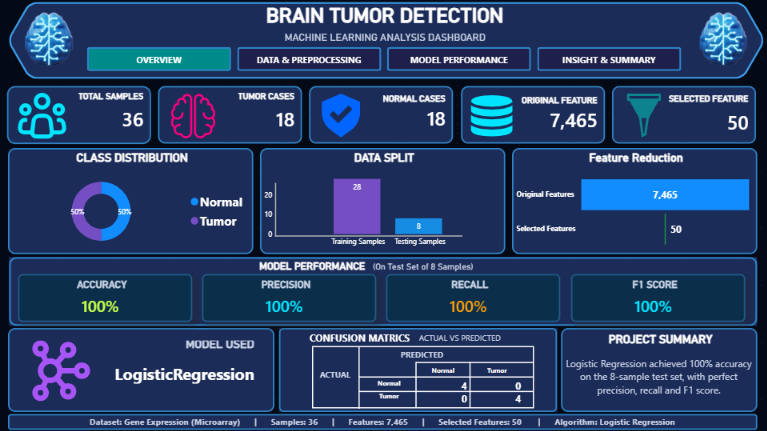

This screenshot's page, from the dashboard's own definition file:
{"tool":"powerbi","page":{"name":"OVERVIEW ","canvas":[1280,720],"ordinal":0},"visuals":[{"type":"textbox","title":"HEADING","box":[11,7.3,1259.5,38],"z":0,"group":"g6"},{"type":"cardVisual","title":"TOTAL SAMPLES","fields":{"Data":["CountNonNull(cleaned_dataset.Sample ID)"]},"box":[12.4,143.6,240,96.9],"z":0,"group":"g5"},{"type":"donutChart","title":"CLASS DISTRIBUTION","fields":{"Y":["CountNonNull(cleaned_dataset.Diagnosis)"],"Category":["cleaned_dataset.Diagnosis"]},"box":[12.5,247,409,176.8],"z":0,"group":"g4"},{"type":"shape","title":"M.P SHAPE","box":[15.2,429,1247.1,115],"z":0,"group":"g3"},{"type":"textbox","title":"PROJECT SUMMARY","box":[936.3,547,327,140],"z":0,"group":"g1"},{"type":"pivotTable","title":"MATRICS","fields":{"Columns":["Confusion_Matrix.Predicted"],"Rows":["Confusion_Matrix.Actual"],"Values":["Sum(Confusion_Matrix.Count)"]},"box":[600.1,604.6,289.4,76.5],"z":0,"group":"g2"},{"type":"textbox","title":"FOOTER","box":[13.9,690,1249,26],"z":0},{"type":"textbox","title":"SUBTITLE","box":[11,47.3,1260,30],"z":1000,"group":"g6"},{"type":"cardVisual","title":"TUMOR CASES","fields":{"Data":["CountNonNull(cleaned_dataset.Diagnosis)"]},"box":[263.7,143.6,240,96],"z":1000,"group":"g5"},{"type":"clusteredColumnChart","title":"DATA SPLIT","fields":{"Category":["Data_Split.Sample Type"],"Y":["Sum(Data_Split.Count)"]},"box":[432.4,247,409,176.8],"z":1000,"group":"g4"},{"type":"cardVisual","title":"ACCURACY","fields":{"Data":["Sum(ModelMetrics.Value)"]},"box":[30.7,458,290,80],"z":1000,"group":"g3"},{"type":"group","id":"g1","title":"BODY 4","box":[13.9,547,1249.4,140.1],"z":1000},{"type":"cardVisual","title":"MODEL USED","fields":{"Data":["Min(power_bi_summary.Column2)"]},"box":[13.9,547,443.8,140],"z":1000,"group":"g1"},{"type":"shape","title":"BORDER SHAPE ","box":[520.4,576.8,370,104],"z":1000,"group":"g2"},{"type":"shape","title":"BORDER","box":[14.5,3.8,1259.5,132],"z":2000,"group":"g6"},{"type":"cardVisual","title":"NORMAL CASES","fields":{"Data":["CountNonNull(cleaned_dataset.Diagnosis)"]},"box":[515.6,143.6,240,96],"z":2000,"group":"g5"},{"type":"funnel","title":"Feature Reduction ","fields":{"Category":["Feature_Reduction.Feature Stage"],"Y":["Sum(Feature_Reduction.Feature Reduction Value)"]},"box":[852.2,247,409,176.8],"z":2000,"group":"g4"},{"type":"textbox","title":"MP TITLE","box":[405.8,429,230.8,29.5],"z":2000,"group":"g3"},{"type":"group","id":"g2","title":"CONFUSION MATRICS","box":[466,547.1,462.9,140],"z":2000,"group":"g1"},{"type":"shape","title":"CONFUSION MATRICS","box":[466,547.1,463,140],"z":2000,"group":"g2"},{"type":"image","title":"LEFT BRAIN","box":[20,12.3,122.8,105.5],"z":3000,"group":"g6"},{"type":"cardVisual","title":"ORIGINAL FEATURES","fields":{"Data":["Sum(Feature_Reduction.Feature Reduction Value)"]},"box":[769.3,143.6,240,96],"z":3000,"group":"g5"},{"type":"shape","title":"horizontal line","box":[457.4,305.4,312,176.6],"z":3000,"group":"g4"},{"type":"group","id":"g3","title":"BODY 3","box":[15.2,429,1247.1,115],"z":3000},{"type":"textbox","title":"MP. SUBTITLE","box":[613.5,429,224.4,29.5],"z":3000,"group":"g3"},{"type":"shape","title":"2ND FULL TOP LINE","box":[600.1,619.6,290,65],"z":3000,"group":"g2"},{"type":"image","title":"RIGHT BRAIN","box":[1140,12.3,131,104.5],"z":4000,"group":"g6"},{"type":"cardVisual","title":"SELECTED FEATURES","fields":{"Data":["Sum(Feature_Reduction.Feature Reduction Value)"]},"box":[1020.8,143.6,240,96],"z":4000,"group":"g5"},{"type":"group","id":"g4","title":"BODY 2","box":[12.5,247,1248.7,235],"z":4000},{"type":"shape","title":"vertical line","box":[388.2,304.8,141.8,89.2],"z":4000,"group":"g4"},{"type":"cardVisual","title":"PRECISION","fields":{"Data":["Sum(ModelMetrics.Value)"]},"box":[337.5,458,290,80],"z":4000,"group":"g3"},{"type":"shape","title":"FULL TOP LINE","box":[600.1,593.3,290,70],"z":4000,"group":"g2"},{"type":"group","id":"g5","title":"BODY 1","box":[12.4,143.6,1248.4,96.9],"z":5000},{"type":"cardVisual","title":"RECALL","fields":{"Data":["Sum(ModelMetrics.Value)"]},"box":[644.3,458,290,80],"z":5000,"group":"g3"},{"type":"shape","title":"3RD LEFT LINE","box":[735.1,603.9,100,77],"z":5000,"group":"g2"},{"type":"group","id":"g6","title":"HEADER","box":[11,3.8,1263,132],"z":6000},{"type":"cardVisual","title":"F1 SCORE","fields":{"Data":["Sum(ModelMetrics.Value)"]},"box":[951.2,458,290,80],"z":6000,"group":"g3"},{"type":"shape","title":"2ND LEFT LINE","box":[685.1,603.9,20,77],"z":6000,"group":"g2"},{"type":"pageNavigator","box":[144.3,78.6,992,40],"z":7000,"group":"g6"},{"type":"textbox","title":"SUBTITLE","box":[693.8,547.1,235,31.2],"z":7000,"group":"g2"},{"type":"shape","title":"LEFT LINE","box":[550.1,578.3,100.2,103],"z":8000,"group":"g2"},{"type":"shape","title":"TOP LINE","box":[693.8,572.1,196.2,65],"z":9000,"group":"g2"},{"type":"textbox","title":"ACTUAL","box":[520.1,604.6,80,56.2],"z":10000,"group":"g2"},{"type":"textbox","title":"PREDICTED ","box":[520.1,577.1,370,27.5],"z":11000,"group":"g2"},{"type":"textbox","title":"TITLE","box":[466.3,547.1,268.8,31.2],"z":12000,"group":"g2"}]}

Visuals, with their boxes in screenshot pixels (x1, y1, x2, y2), scaled from the page's 1280x720 canvas onto the 767x431 screenshot:
"HEADING" textbox: bbox=(7, 4, 761, 27)
"TOTAL SAMPLES" cardVisual: bbox=(7, 86, 151, 144)
"CLASS DISTRIBUTION" donutChart: bbox=(7, 148, 253, 254)
"M.P SHAPE" shape: bbox=(9, 257, 756, 326)
"PROJECT SUMMARY" textbox: bbox=(561, 327, 757, 411)
"MATRICS" pivotTable: bbox=(360, 362, 533, 408)
"FOOTER" textbox: bbox=(8, 413, 757, 429)
"SUBTITLE" textbox: bbox=(7, 28, 762, 46)
"TUMOR CASES" cardVisual: bbox=(158, 86, 302, 143)
"DATA SPLIT" clusteredColumnChart: bbox=(259, 148, 504, 254)
"ACCURACY" cardVisual: bbox=(18, 274, 192, 322)
"BODY 4" group: bbox=(8, 327, 757, 411)
"MODEL USED" cardVisual: bbox=(8, 327, 274, 411)
"BORDER SHAPE " shape: bbox=(312, 345, 534, 408)
"BORDER" shape: bbox=(9, 2, 763, 81)
"NORMAL CASES" cardVisual: bbox=(309, 86, 453, 143)
"Feature Reduction " funnel: bbox=(511, 148, 756, 254)
"MP TITLE" textbox: bbox=(243, 257, 381, 274)
"CONFUSION MATRICS" group: bbox=(279, 328, 557, 411)
"CONFUSION MATRICS" shape: bbox=(279, 328, 557, 411)
"LEFT BRAIN" image: bbox=(12, 7, 86, 71)
"ORIGINAL FEATURES" cardVisual: bbox=(461, 86, 605, 143)
"horizontal line" shape: bbox=(274, 183, 461, 289)
"BODY 3" group: bbox=(9, 257, 756, 326)
"MP. SUBTITLE" textbox: bbox=(368, 257, 502, 274)
"2ND FULL TOP LINE" shape: bbox=(360, 371, 533, 410)
"RIGHT BRAIN" image: bbox=(683, 7, 762, 70)
"SELECTED FEATURES" cardVisual: bbox=(612, 86, 755, 143)
"BODY 2" group: bbox=(7, 148, 756, 289)
"vertical line" shape: bbox=(233, 182, 318, 236)
"PRECISION" cardVisual: bbox=(202, 274, 376, 322)
"FULL TOP LINE" shape: bbox=(360, 355, 533, 397)
"BODY 1" group: bbox=(7, 86, 755, 144)
"RECALL" cardVisual: bbox=(386, 274, 560, 322)
"3RD LEFT LINE" shape: bbox=(440, 362, 500, 408)
"HEADER" group: bbox=(7, 2, 763, 81)
"F1 SCORE" cardVisual: bbox=(570, 274, 744, 322)
"2ND LEFT LINE" shape: bbox=(411, 362, 423, 408)
pageNavigator: bbox=(86, 47, 681, 71)
"SUBTITLE" textbox: bbox=(416, 328, 557, 346)
"LEFT LINE" shape: bbox=(330, 346, 390, 408)
"TOP LINE" shape: bbox=(416, 342, 533, 381)
"ACTUAL" textbox: bbox=(312, 362, 360, 396)
"PREDICTED " textbox: bbox=(312, 345, 533, 362)
"TITLE" textbox: bbox=(279, 328, 440, 346)
